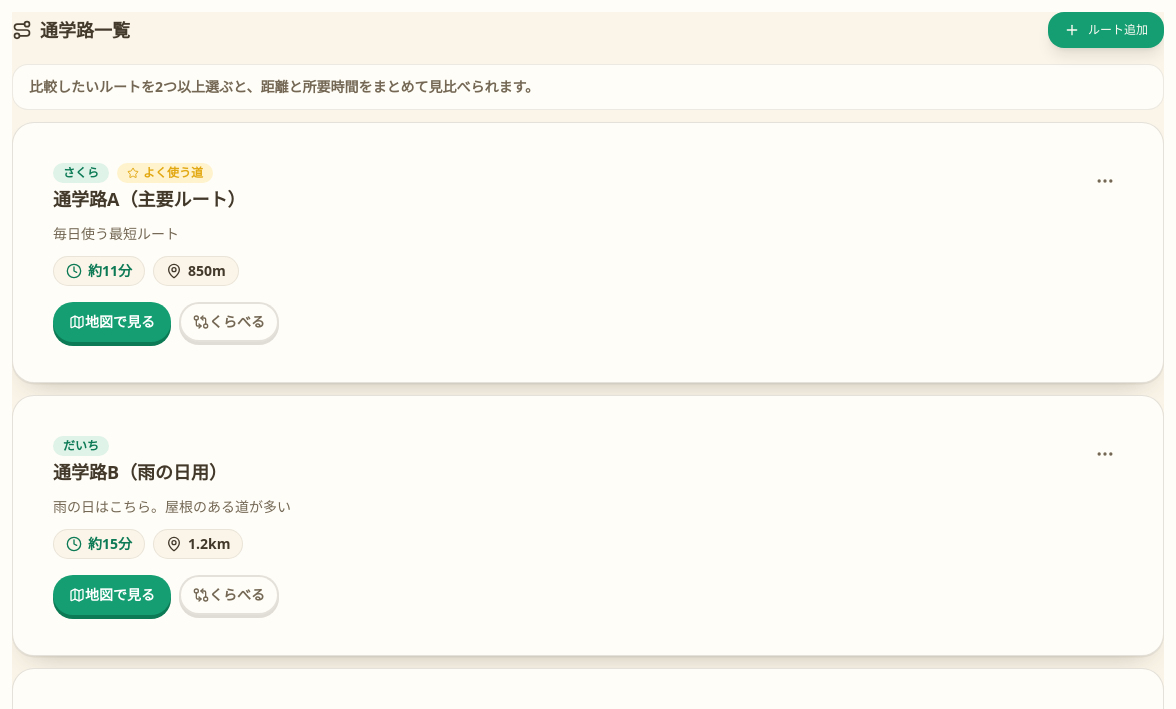
RouteManager Component › Route Selection › highlights selected route
Click the element with test id "route-card" at (588, 367), box [12, 122, 1164, 383]
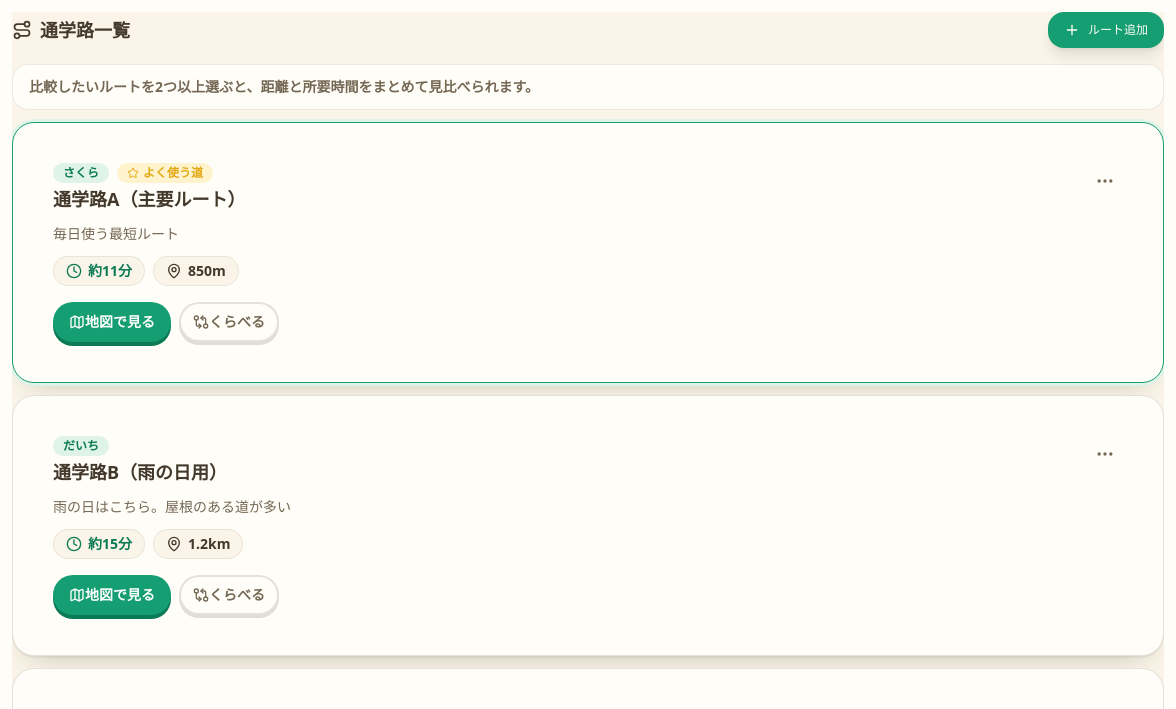
Check: the element with test id "route-card" has class "selected", box [12, 122, 1164, 383]
